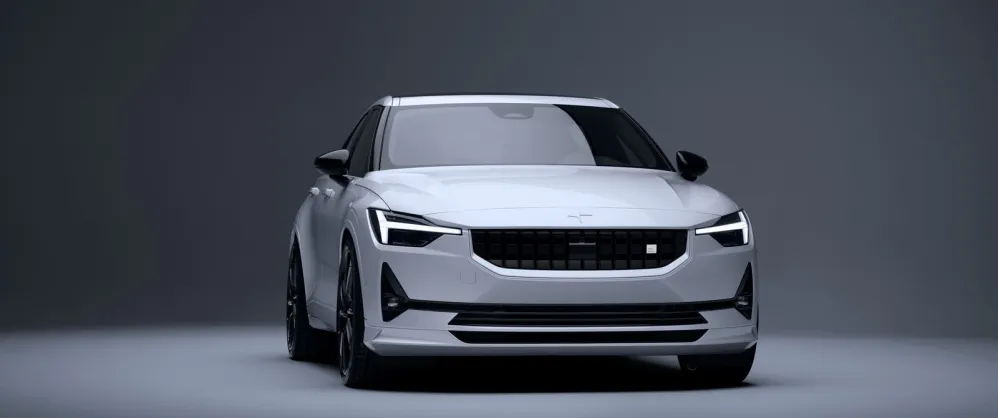car: (279, 88, 765, 389)
